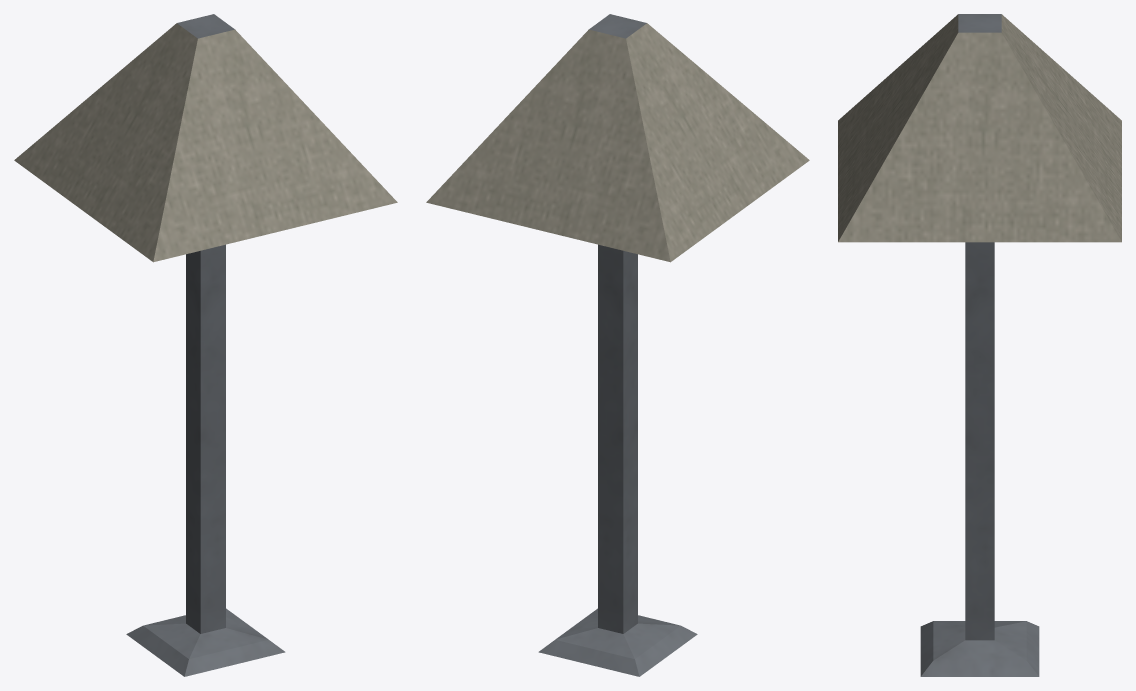
Rendered from lamp.fbx.
The picture shows the model from 3 angles, left to right: view 1: azimuth 30°, elevation 25°; view 2: azimuth 150°, elevation 25°; view 3: azimuth 270°, elevation 25°; orthographic projection.
Visible parts, largest first — view 1: Cube.002, Cube.004, Cube, Cube.001, Cube.006; view 2: Cube.005, Cube.004, Cube, Cube.001, Cube.006; view 3: Cube.003, Cube, Cube.002, Cube.005, Cube.001, Cube.006.
Boxes of the visible parts, x1,y1,x2,y2 form: Cube.002: (153,29,397,262); Cube.004: (14,23,197,261); Cube: (186,244,225,633); Cube.001: (126,608,285,676); Cube.006: (177,14,234,38); Cube.005: (426,29,670,262); Cube.004: (626,23,809,261); Cube: (598,244,637,633); Cube.001: (538,608,697,676); Cube.006: (589,14,646,38); Cube.003: (838,32,1121,242); Cube: (965,242,994,640); Cube.002: (838,14,958,241); Cube.005: (1001,14,1121,241); Cube.001: (920,621,1039,676); Cube.006: (958,14,1001,32).
Size of the model in its own units: 2907 by 7005 by 2867.
